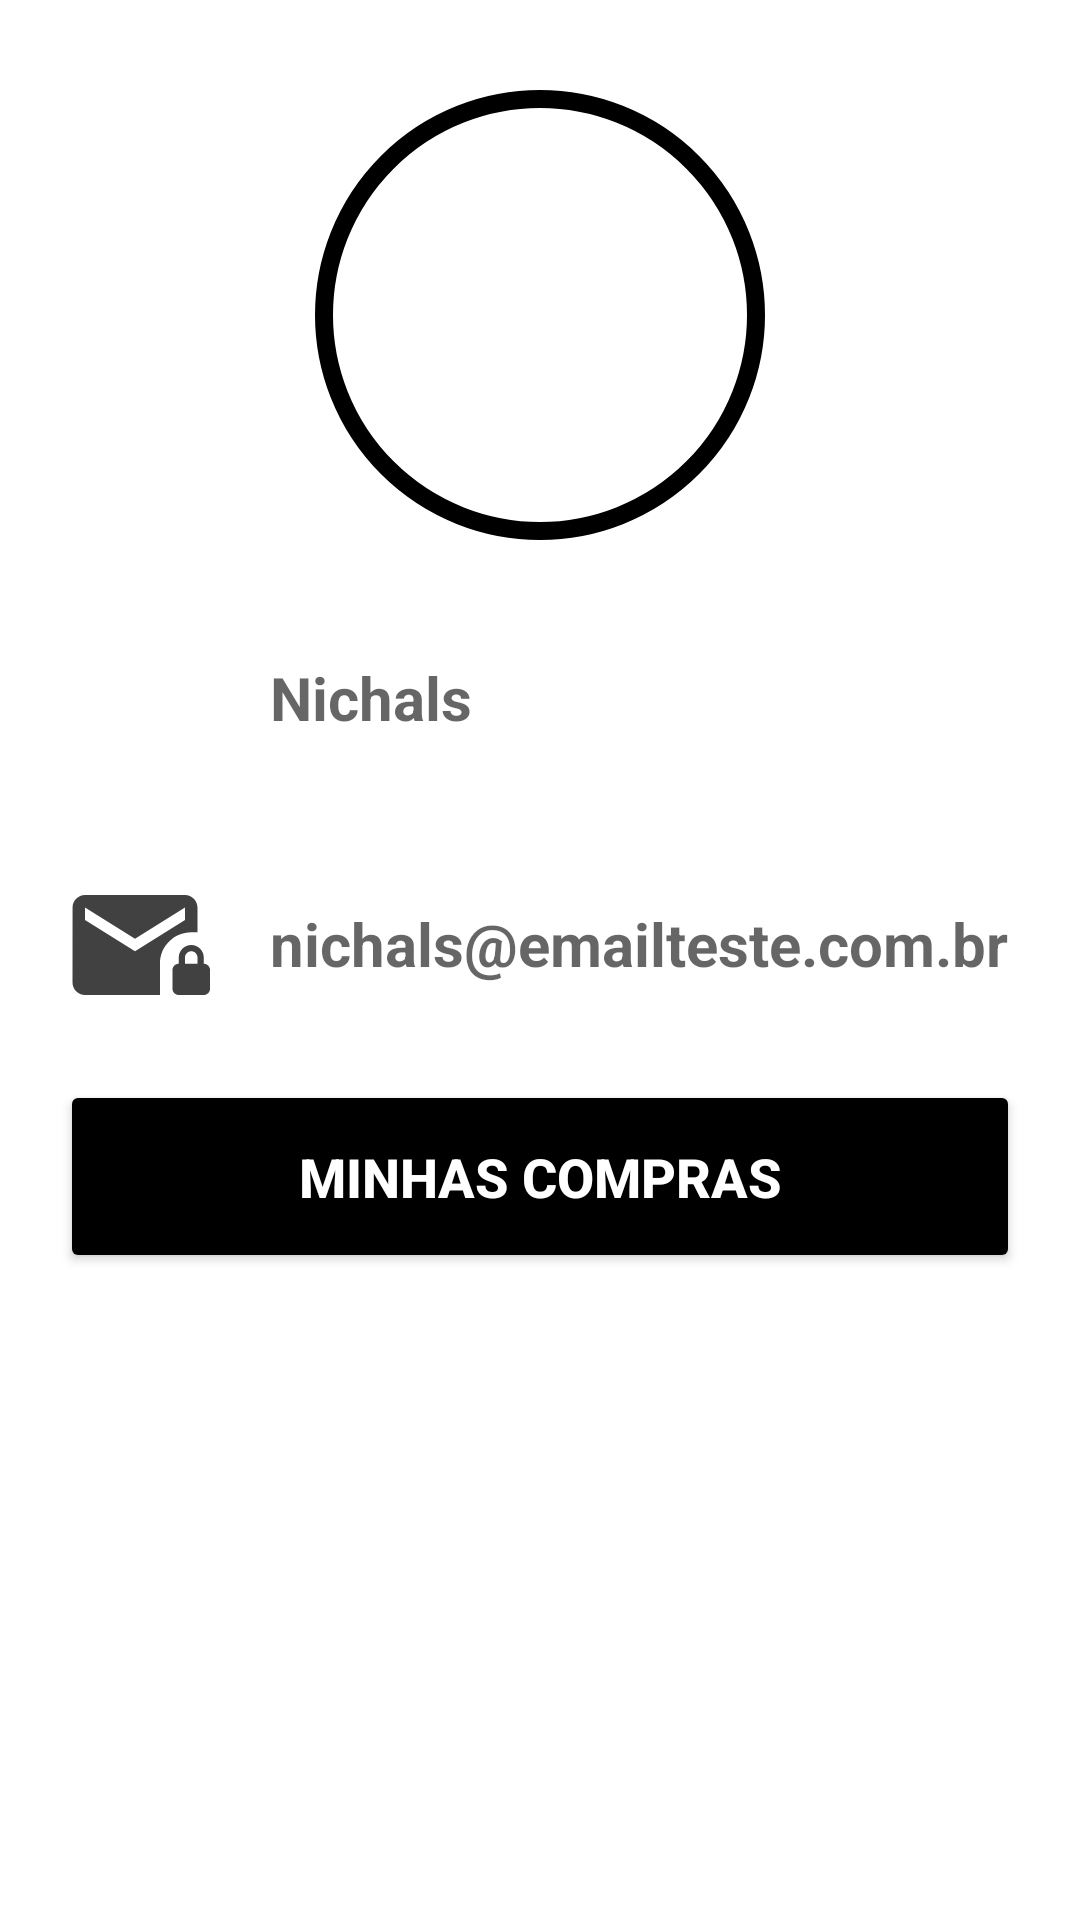

Screen size 1080x1920. Icon name, then its center in pixels as (x=x, y=y):
profile mail: (x=141, y=945)
